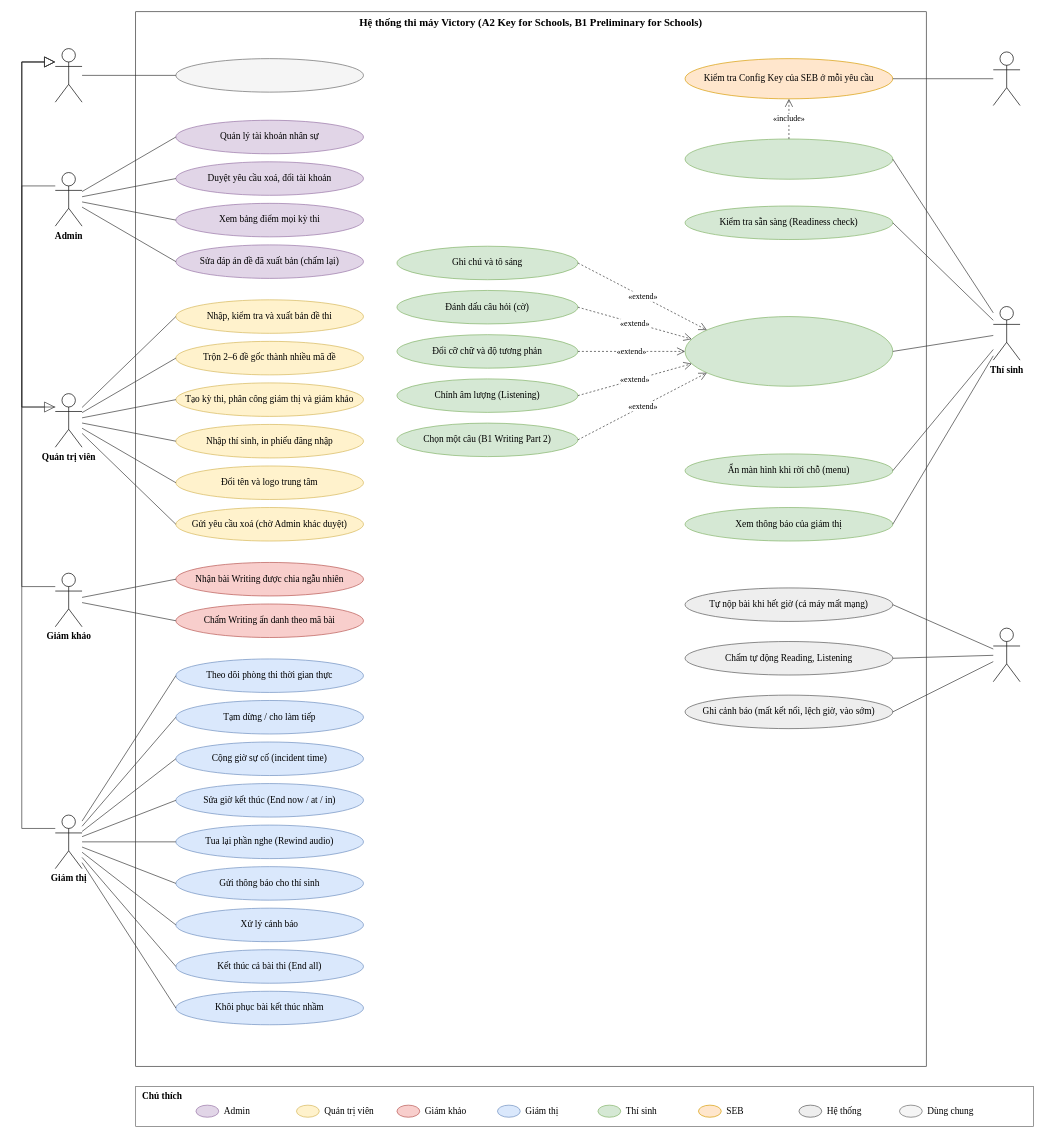
This 1058x1138 diagram has some shape labels left out. The centre of each missing label's shape, as x and y in pixels:
Làm bài thi (Reading, Writing, Listening): point 788,351
Nhân sự: point 68,75
Safe Exam Browser: point 1006,78
Đăng nhập (nhân sự): point 269,75
Đăng nhập (phiếu đăng nhập + mã PIN): point 788,158
Đồng hồ hệ thống: point 1006,654
